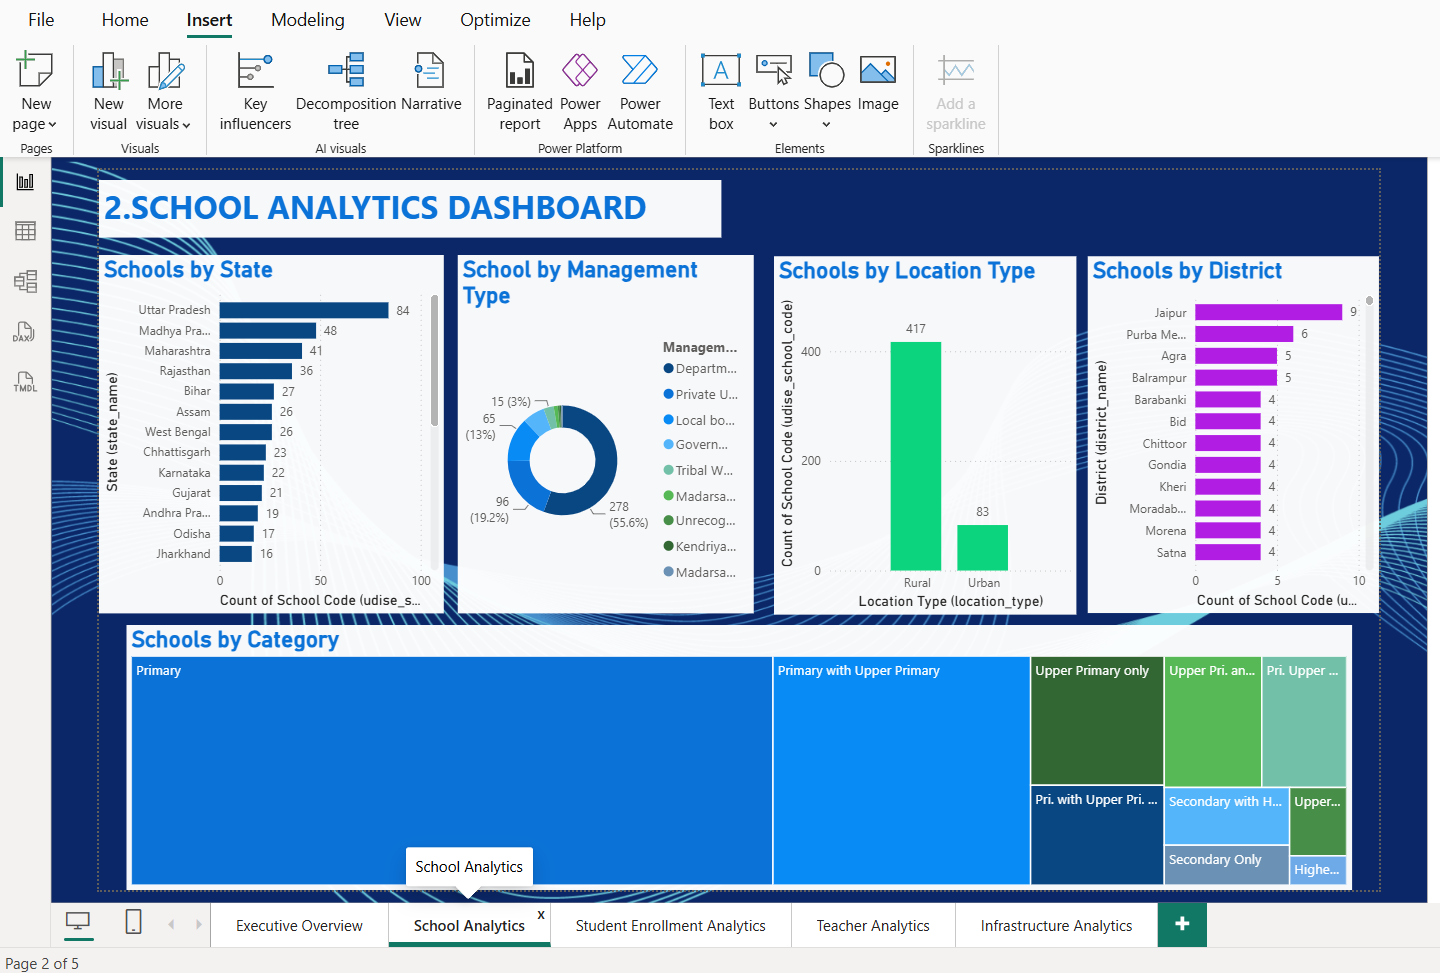

The page's visual inventory and layout, read from the dashboard file:
{"tool":"powerbi","page":{"name":"School Analytics","canvas":[1280,720],"ordinal":1},"visuals":[{"type":"clusteredBarChart","title":" Schools by State","fields":{"Category":["Basic Details of Schools_Sample_Data.State (state_name)"],"Y":["Count(Basic Details of Schools_Sample_Data.School Code (udise_school_code))"]},"box":[0,85.6,344.8,358.3],"z":0},{"type":"donutChart","title":"School by Management  Type","fields":{"Y":["Count(Basic Details of Schools_Sample_Data.School Code (udise_school_code))"],"Category":["Basic Details of Schools_Sample_Data.Management (management)"]},"box":[358.3,85.6,295.9,358.3],"z":1000},{"type":"clusteredColumnChart","title":"Schools by Location Type","fields":{"Category":["Basic Details of Schools_Sample_Data.Location Type (location_type)"],"Y":["Count(Basic Details of Schools_Sample_Data.School Code (udise_school_code))"]},"box":[675,86.8,302,358.3],"z":2000},{"type":"clusteredBarChart","title":"Schools by District","fields":{"Category":["Basic Details of Schools_Sample_Data.District (district_name)"],"Y":["Count(Basic Details of Schools_Sample_Data.School Code (udise_school_code))"]},"box":[989.3,86.8,291,357.1],"z":3000},{"type":"treemap","title":"Schools by Category ","fields":{"Group":["Basic Details of Schools_Sample_Data.School Category (school_category)"],"Values":["Count(Basic Details of Schools_Sample_Data.School Code (udise_school_code))"]},"box":[26.9,454.9,1225.3,265.4],"z":4000},{"type":"textbox","box":[0,9.8,622.4,57.5],"z":5000}]}

Visuals, with their boxes on the page's 1280x720 design canvas (x1, y1, x2, y2). These are canvas units, not pixel positions in the 1440x973 screenshot, which may show the page scaled, cropped or inside an application window:
" Schools by State" clusteredBarChart: (left=0, top=86, right=345, bottom=444)
"School by Management  Type" donutChart: (left=358, top=86, right=654, bottom=444)
"Schools by Location Type" clusteredColumnChart: (left=675, top=87, right=977, bottom=445)
"Schools by District" clusteredBarChart: (left=989, top=87, right=1280, bottom=444)
"Schools by Category " treemap: (left=27, top=455, right=1252, bottom=720)
textbox: (left=0, top=10, right=622, bottom=67)
